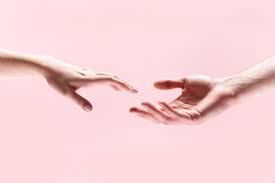hand: (16, 35, 134, 120), (137, 58, 238, 133)
